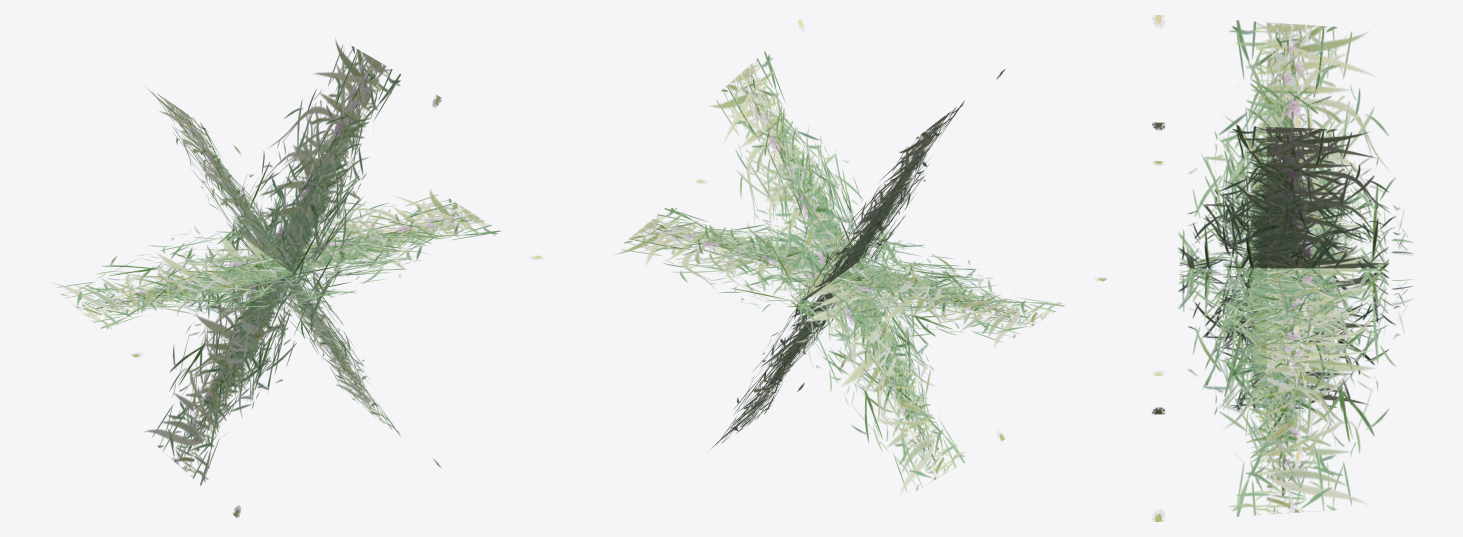
File: GrassCard_Duo_B.glb
3 renders of one model, left to right at view 1: azimuth 30°, elevation 25°; view 2: azimuth 150°, elevation 25°; view 3: azimuth 270°, elevation 25°, orthographic. The views are drawn at different scales.
Visible parts, largest first — view 1: GrassCard_Duo_B; view 2: GrassCard_Duo_B; view 3: GrassCard_Duo_B.
Part boxes in pixels (x1,y1,x2,y2): GrassCard_Duo_B: (50,38,543,517); GrassCard_Duo_B: (614,19,1107,498); GrassCard_Duo_B: (1151,14,1412,522).
Bounding box in the file's own units: 0.2 × 0.1732 × 0.12.
Materials: 1 (1 with a texture image).
